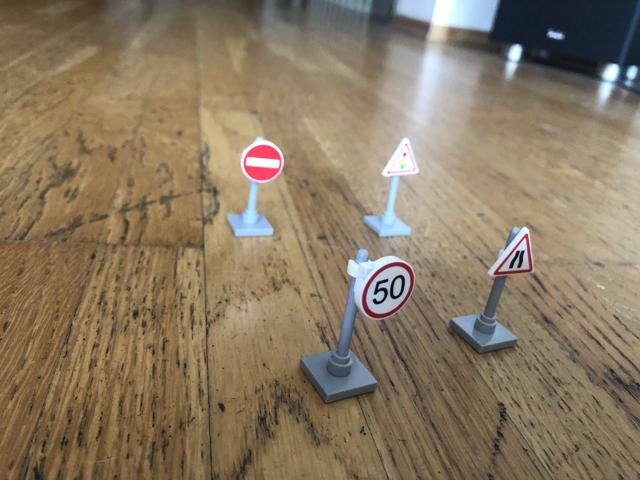lichtzeichenanlage: (382, 136, 420, 180)
tempolimit 50: (357, 258, 418, 319)
verbot der einfahrt: (242, 142, 284, 185)
verengte fahrbahn: (490, 228, 537, 280)
